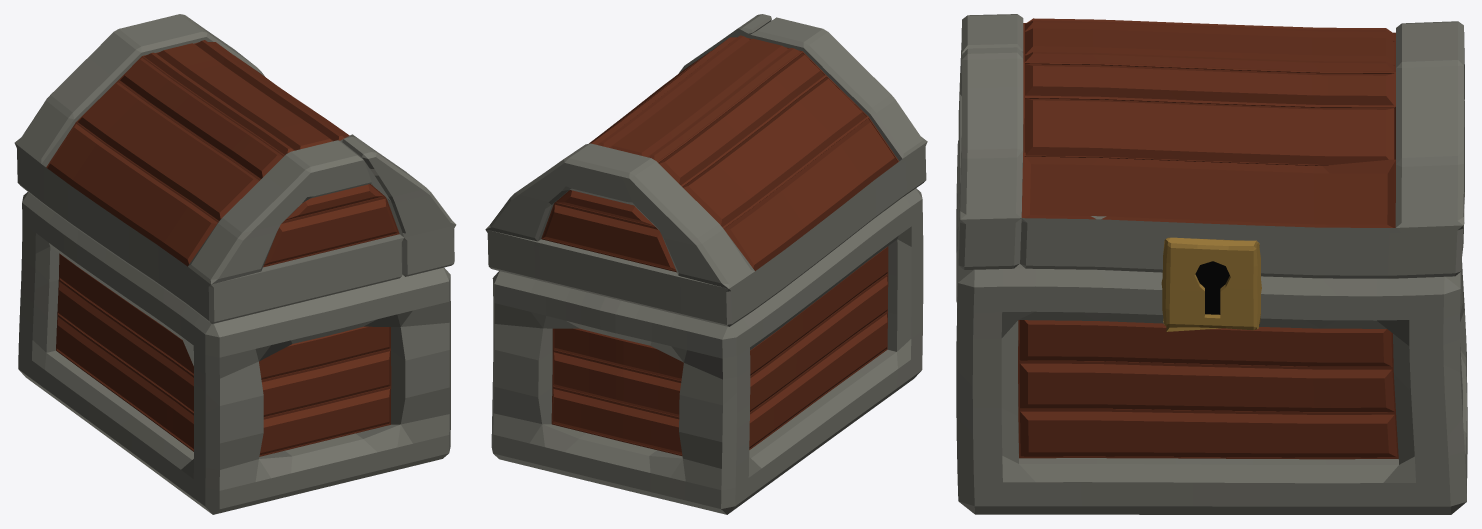
File: Chest.fbx
3 renders of one model, left to right at view 1: azimuth 30°, elevation 25°; view 2: azimuth 150°, elevation 25°; view 3: azimuth 270°, elevation 25°, orthographic. The views are drawn at different scales.
Parts seen in each view (by area): view 1: Cube; view 2: Cube; view 3: Cube.
Boxes of the visible parts, x1,y1,x2,y2 form: Cube: (14,14,456,514); Cube: (485,14,927,514); Cube: (956,14,1467,514).
Size of the model in its own units: 1.47 by 1.79 by 1.99.
